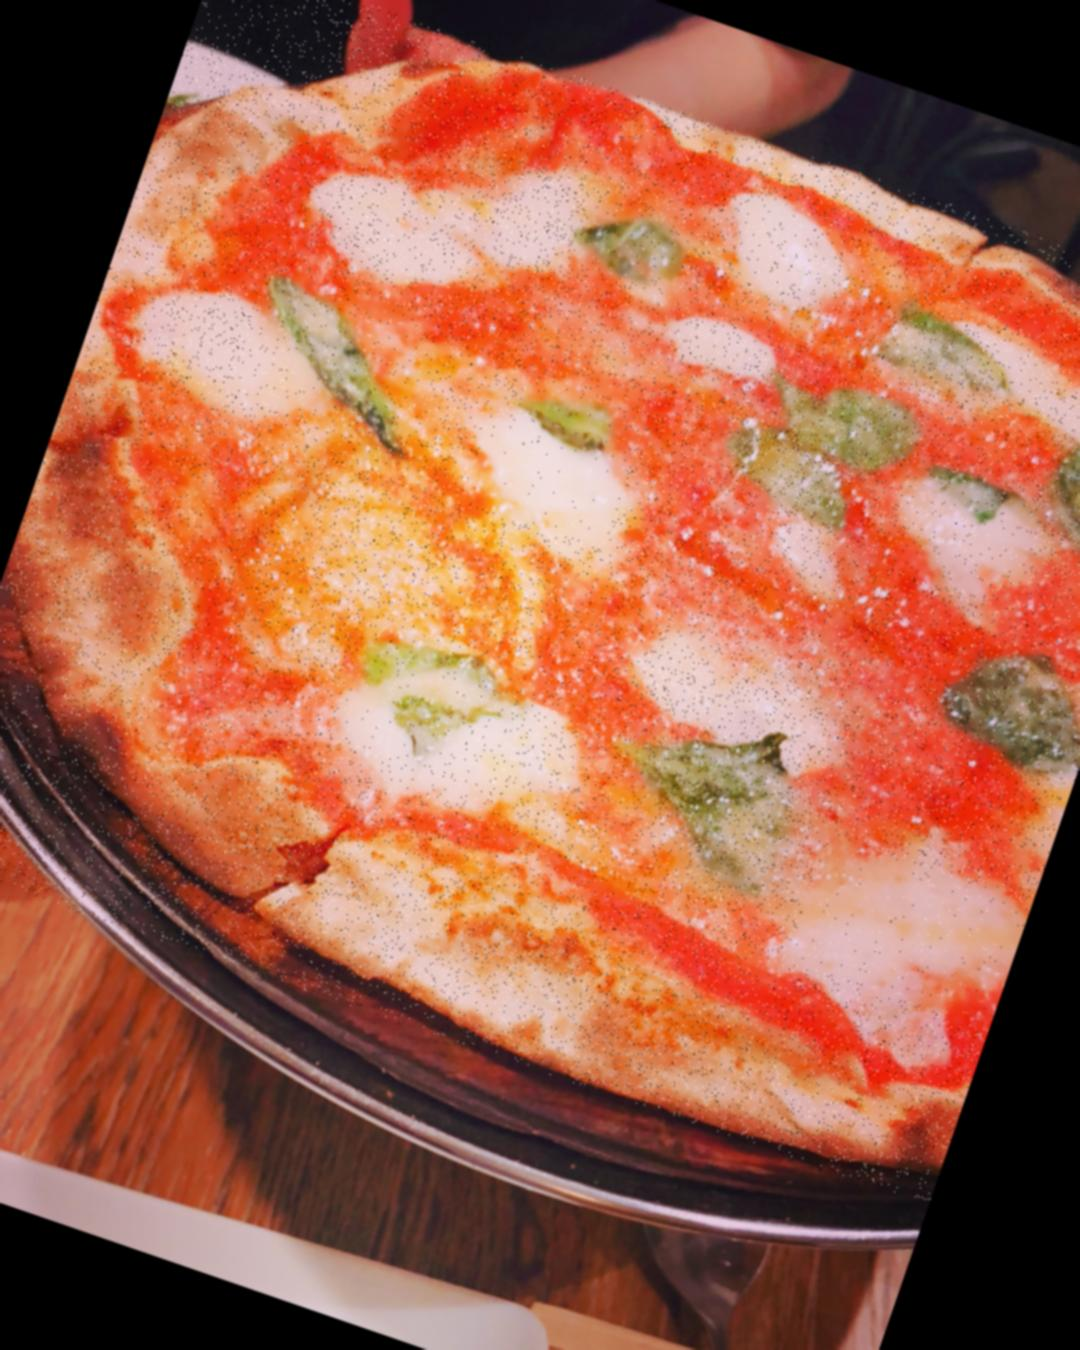Basil: (587, 691, 820, 904), (233, 268, 451, 453), (331, 618, 523, 787), (927, 627, 1080, 787), (759, 361, 938, 476), (713, 414, 874, 537), (569, 199, 700, 299), (515, 379, 624, 456), (1030, 436, 1080, 579)
Cheese: (788, 835, 1032, 1029), (352, 656, 559, 831), (639, 631, 835, 770), (140, 287, 323, 423), (325, 179, 521, 301), (464, 415, 629, 548), (894, 476, 1048, 612), (428, 137, 601, 257), (719, 194, 850, 305)
Pizza: (0, 0, 1080, 1205)
